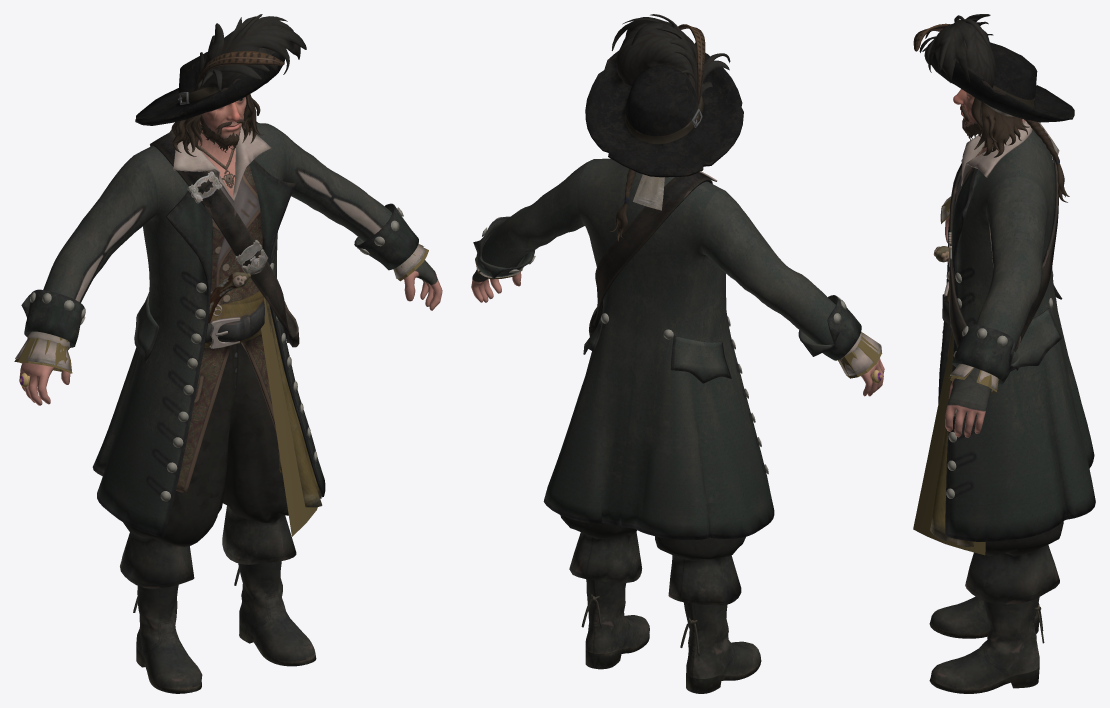
The model's file is barbossa.glb.
The picture shows the model from 3 angles, left to right: view 1: azimuth 30°, elevation 25°; view 2: azimuth 150°, elevation 25°; view 3: azimuth 270°, elevation 25°; orthographic projection. The views are drawn at different scales.
Visible parts, largest first — view 1: Object_2, Object_4, Object_6, Object_5; view 2: Object_2, Object_4, Object_6; view 3: Object_2, Object_4, Object_6, Object_5.
Boxes of the visible parts, x1=… form: Object_2: x1=15, y1=123, x2=442, y2=693; Object_4: x1=135, y1=14, x2=306, y2=156; Object_6: x1=14, y1=244, x2=428, y2=536; Object_5: x1=198, y1=97, x2=246, y2=168; Object_2: x1=471, y1=158, x2=884, y2=693; Object_4: x1=585, y1=14, x2=743, y2=241; Object_6: x1=475, y1=257, x2=882, y2=378; Object_2: x1=929, y1=120, x2=1095, y2=693; Object_4: x1=913, y1=14, x2=1074, y2=202; Object_6: x1=913, y1=199, x2=998, y2=555; Object_5: x1=953, y1=89, x2=1024, y2=153.
Bounding box in the file's own units: 144 × 215 × 54.63.
5 materials, 4 textured.
